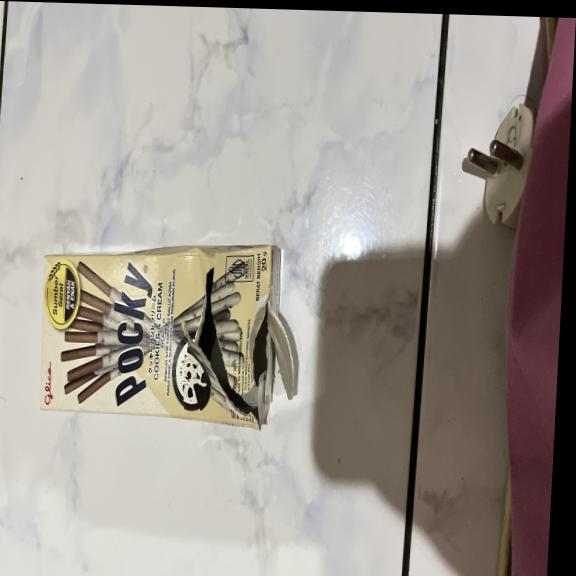Kertas: (39, 230, 278, 420)
